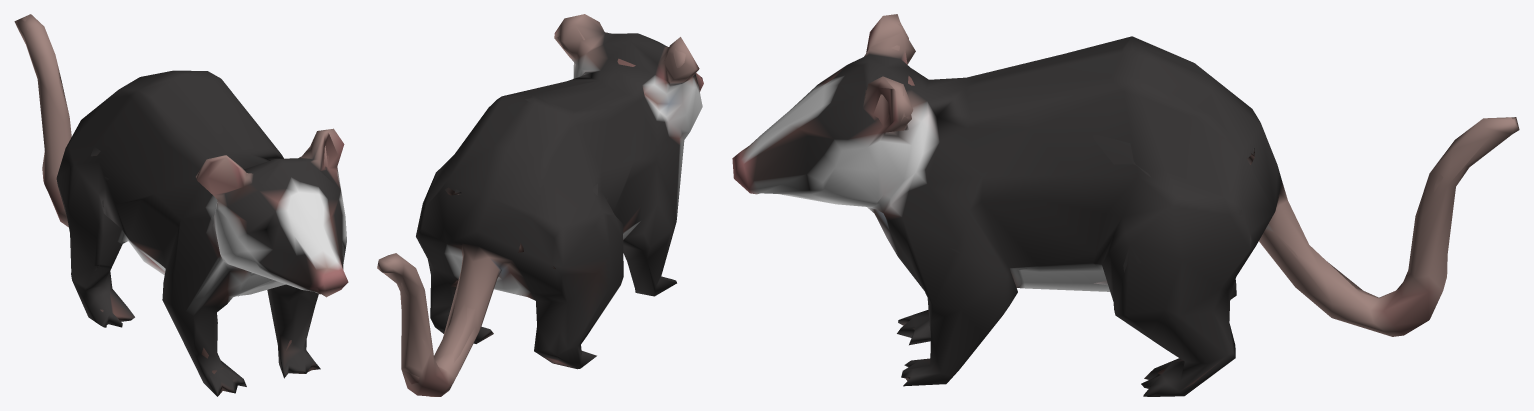
Rendered from gen3d-possum-lod0.glb.
The picture shows the model from 3 angles, left to right: view 1: azimuth 30°, elevation 25°; view 2: azimuth 150°, elevation 25°; view 3: azimuth 270°, elevation 25°; orthographic projection. The views are drawn at different scales.
Visible parts, largest first — view 1: part_0; view 2: part_0; view 3: part_0.
Boxes of the visible parts, x1,y1,x2,y2 form: part_0: (14, 14, 348, 396); part_0: (377, 14, 703, 396); part_0: (732, 14, 1519, 396).
Bounding box in the file's own units: 0.7822 × 0.9989 × 2.29.
